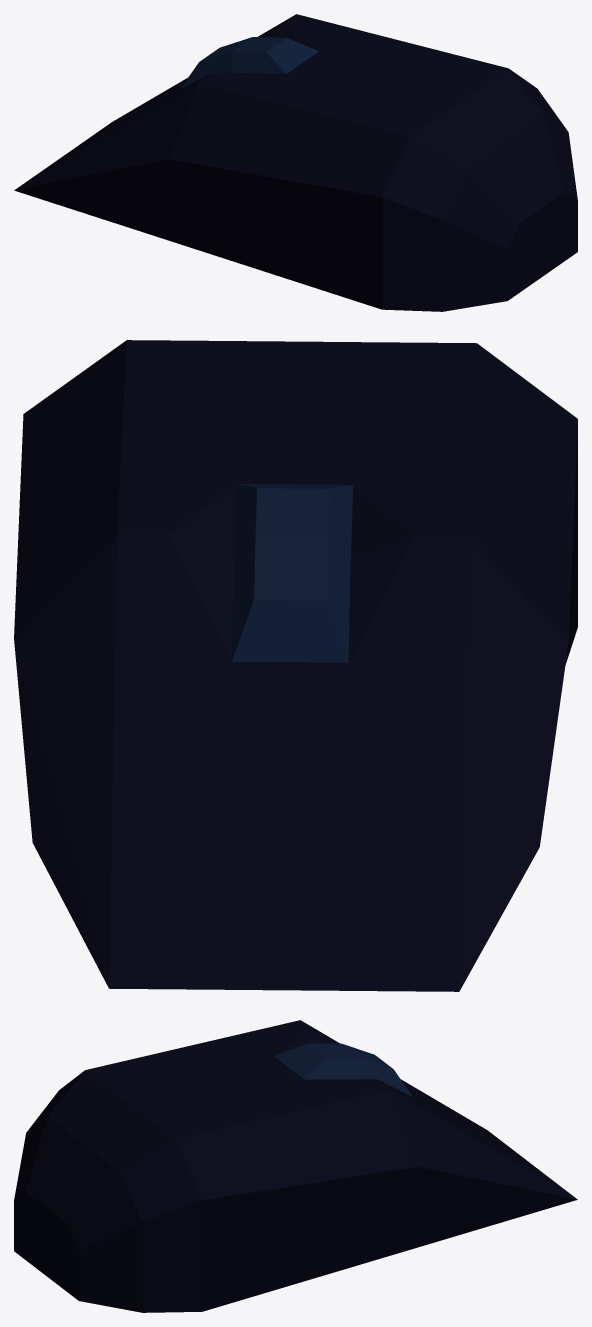
Rendered from RivenRoom_Mouse.fbx.
3 renders of one model, top to bottom at view 1: azimuth 30°, elevation 25°; view 2: azimuth 150°, elevation 25°; view 3: azimuth 270°, elevation 25°, orthographic. The views are drawn at different scales.
Parts seen in each view (by area): view 1: Cube.124; view 2: Cube.124; view 3: Cube.124.
Boxes of the visible parts, left/top/right/bottom form: Cube.124: left=14, top=14, right=577, bottom=311; Cube.124: left=14, top=340, right=577, bottom=991; Cube.124: left=14, top=1020, right=577, bottom=1312.
Bounding box in the file's own units: 14.99 × 6.25 × 19.42.
